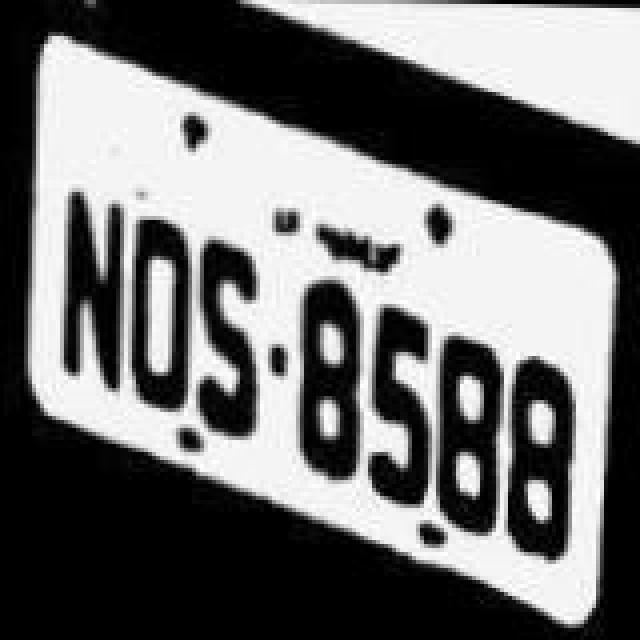5: (356, 278, 436, 522)
8: (498, 312, 586, 576), (282, 272, 366, 508), (426, 294, 506, 538)
N: (44, 178, 136, 414)
O: (120, 208, 196, 420)
S: (188, 220, 272, 448)
